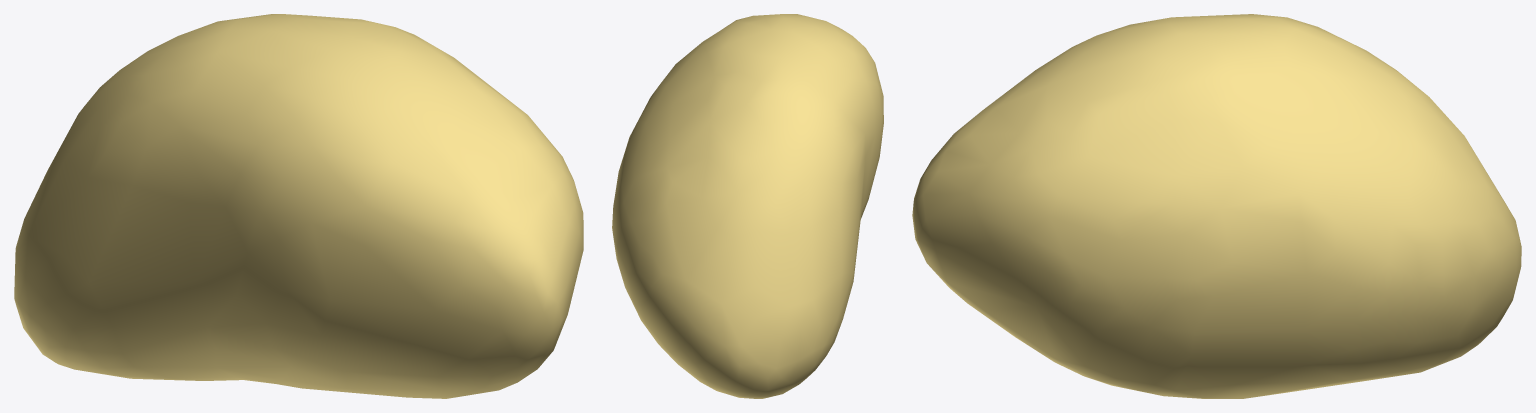
3 renders of one model, left to right at view 1: azimuth 30°, elevation 25°; view 2: azimuth 150°, elevation 25°; view 3: azimuth 270°, elevation 25°, orthographic. The views are drawn at different scales.
Visible parts, largest first — view 1: ZA_21857d534637a8ee; view 2: ZA_21857d534637a8ee; view 3: ZA_21857d534637a8ee.
Part boxes in pixels (x1,y1,x2,y2): ZA_21857d534637a8ee: (14,14,583,398); ZA_21857d534637a8ee: (612,14,883,398); ZA_21857d534637a8ee: (912,14,1521,398).
Size of the model in its own units: 0.0227 by 0.0229 by 0.0354.
